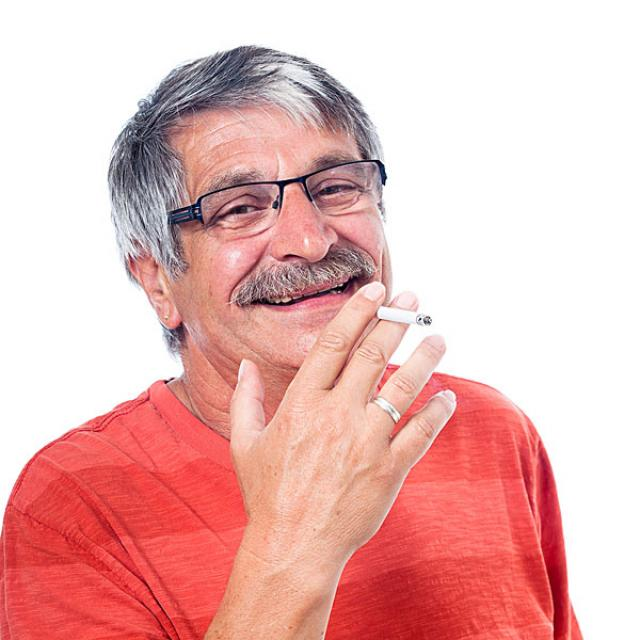smoking: (368, 304, 432, 328)
